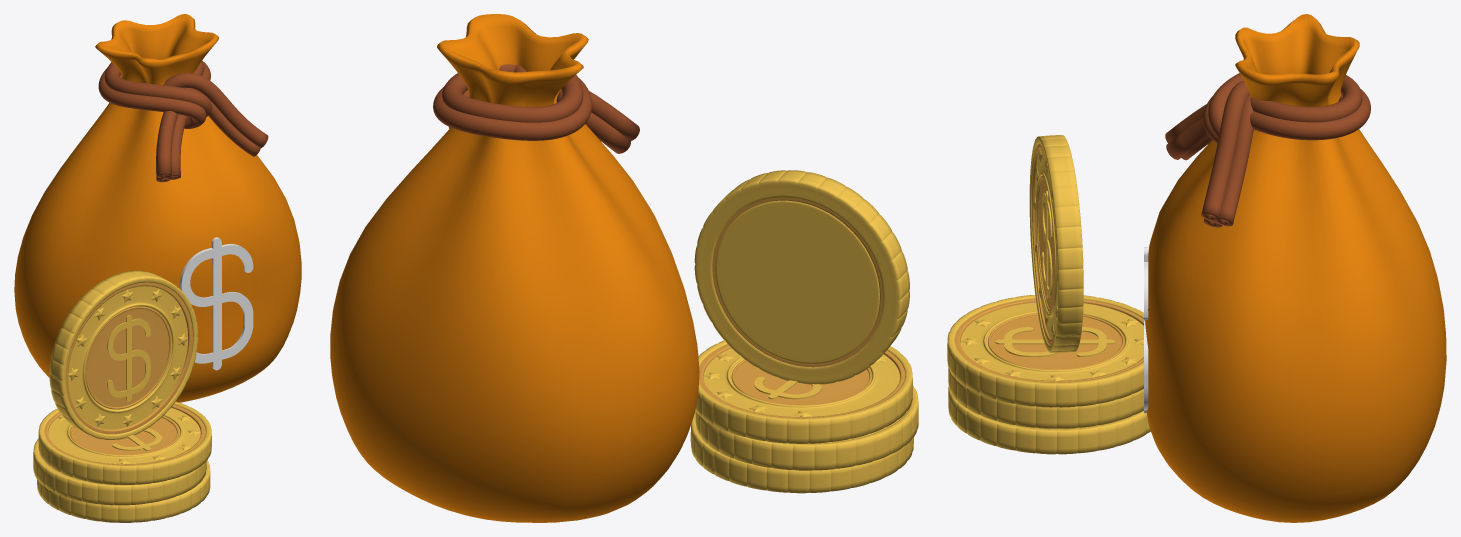
The model's file is money-bag-3d-animated-icon-1029052822699.glb.
The picture shows the model from 3 angles, left to right: view 1: azimuth 30°, elevation 25°; view 2: azimuth 150°, elevation 25°; view 3: azimuth 270°, elevation 25°; orthographic projection. The views are drawn at different scales.
Visible parts, largest first — view 1: Cube, Cylinder.001, Cylinder.012, NurbsPath, Cylinder.003, Curve.002, Cylinder.002, Curve.001, Curve.003; view 2: Cube, Cylinder.001, Cylinder.012, NurbsPath, Cylinder.003, Cylinder.002, Curve.003; view 3: Cube, Cylinder.012, NurbsPath, Cylinder.001, Cylinder.002, Cylinder.003, Curve.003, Curve.001, Curve.002.
Part boxes in pixels (<box>): Cube: <box>14,14,301,402</box>; Cylinder.001: <box>49,270,197,439</box>; Cylinder.012: <box>38,401,211,484</box>; NurbsPath: <box>98,60,268,182</box>; Cylinder.003: <box>33,438,206,505</box>; Curve.002: <box>180,237,253,370</box>; Cylinder.002: <box>37,460,210,522</box>; Curve.001: <box>107,315,150,401</box>; Curve.003: <box>112,428,162,450</box>; Cube: <box>330,14,699,522</box>; Cylinder.001: <box>694,170,909,384</box>; Cylinder.012: <box>695,340,912,443</box>; NurbsPath: <box>433,64,639,153</box>; Cylinder.003: <box>695,386,918,470</box>; Cylinder.002: <box>690,411,913,493</box>; Curve.003: <box>754,376,821,399</box>; Cube: <box>1145,14,1446,522</box>; Cylinder.012: <box>947,295,1143,407</box>; NurbsPath: <box>1165,73,1370,227</box>; Cylinder.001: <box>1029,135,1083,352</box>; Cylinder.002: <box>948,387,1150,454</box>; Cylinder.003: <box>948,368,1143,428</box>; Curve.003: <box>995,327,1115,356</box>; Curve.001: <box>1041,190,1052,299</box>; Curve.002: <box>1144,247,1148,413</box>.
Bounding box in the file's own units: 5.09 × 5.15 × 5.23.
